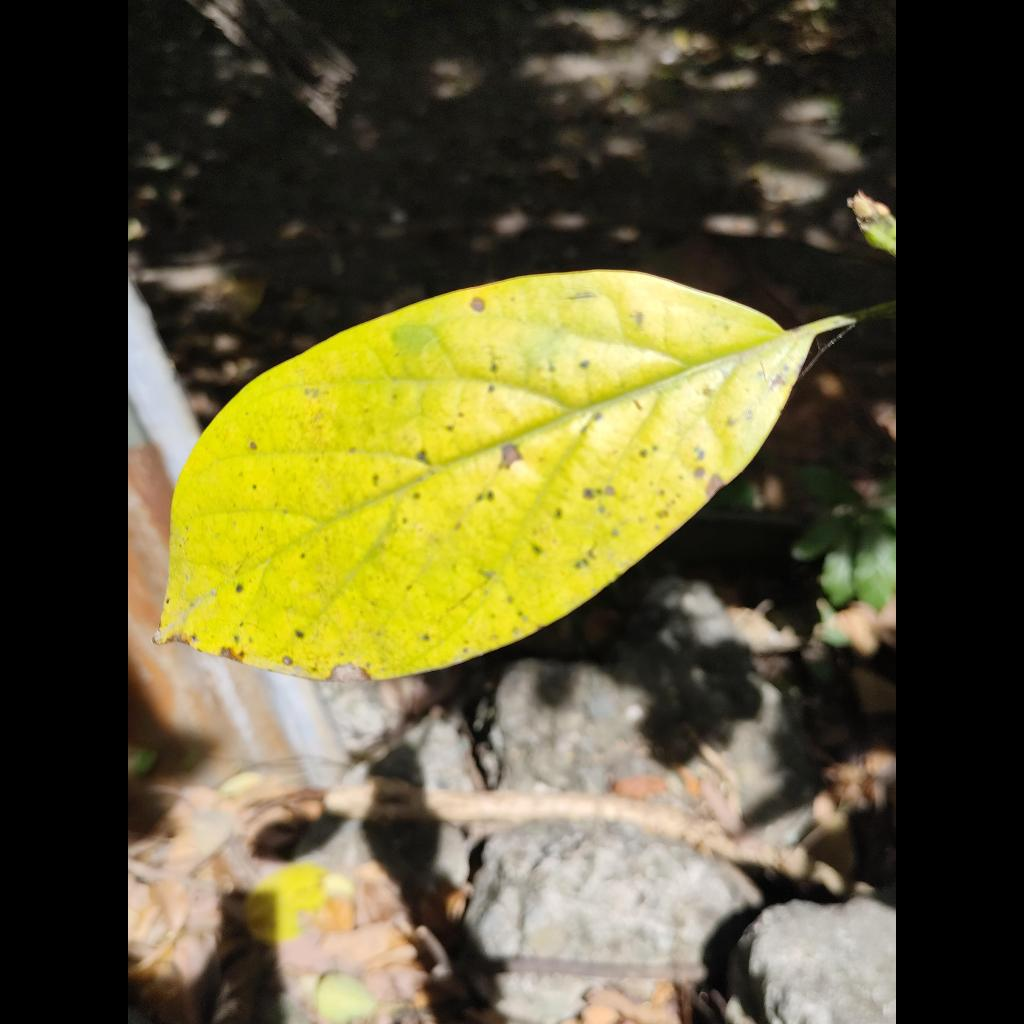deficiencia_nutricional: (156, 271, 857, 681)
